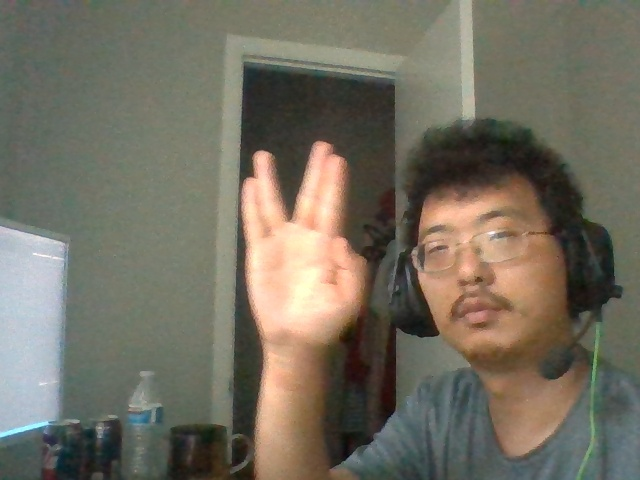LiveLong: (241, 140, 369, 351)
